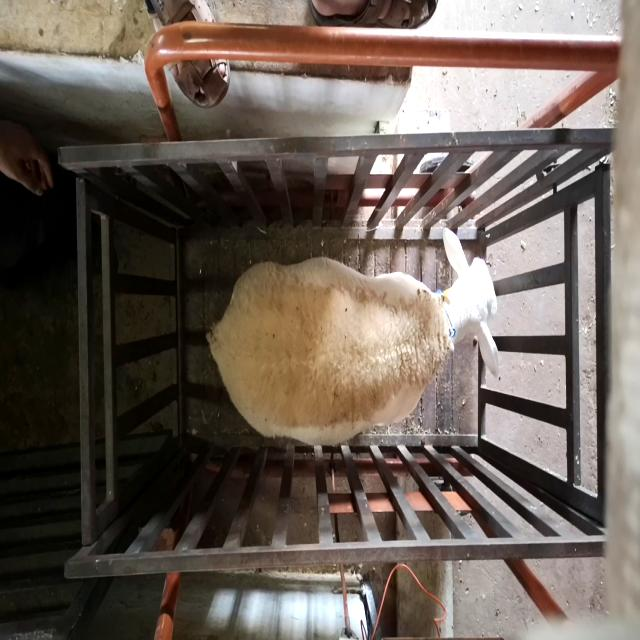sheep: (207, 227, 500, 446)
